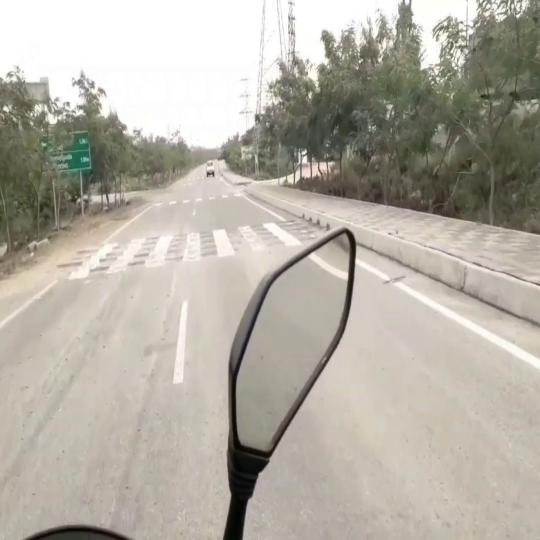Speed Bump: (57, 218, 266, 276)
